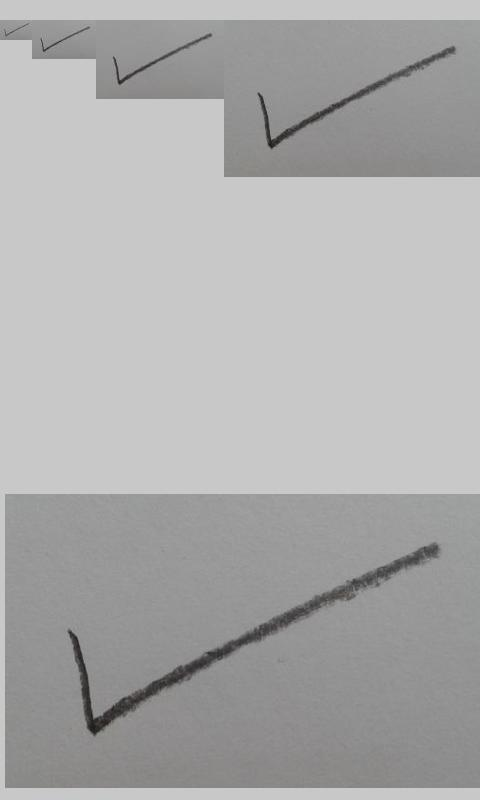check_box: (65, 542, 437, 737), (258, 47, 455, 148), (113, 33, 212, 85), (40, 27, 89, 52), (3, 23, 29, 37)
